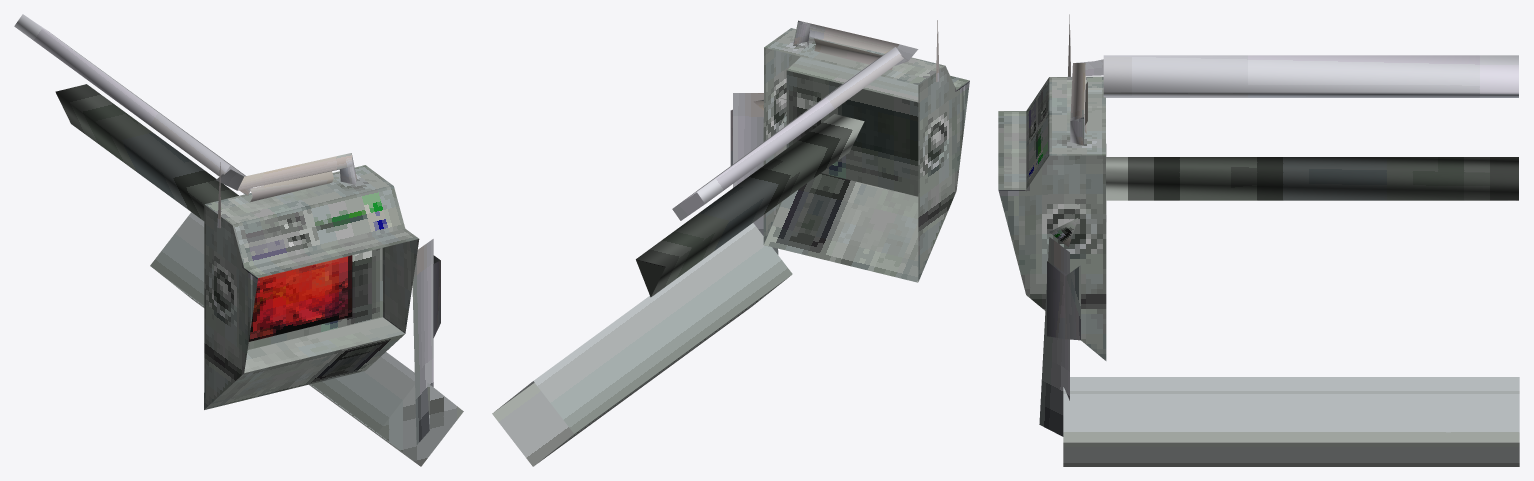
Rendered from frn_all_data_terminal_wall_s4_l3.fbx.
3 renders of one model, left to right at view 1: azimuth 30°, elevation 25°; view 2: azimuth 150°, elevation 25°; view 3: azimuth 270°, elevation 25°, orthographic. The views are drawn at different scales.
Visible parts, largest first — view 1: mesh_node; view 2: mesh_node; view 3: mesh_node.
Boxes of the visible parts, x1,y1,x2,y2 form: mesh_node: [14, 14, 463, 466]; mesh_node: [492, 20, 969, 466]; mesh_node: [998, 14, 1519, 466].
Size of the model in its own units: 0.6749 by 0.9477 by 1.26.
